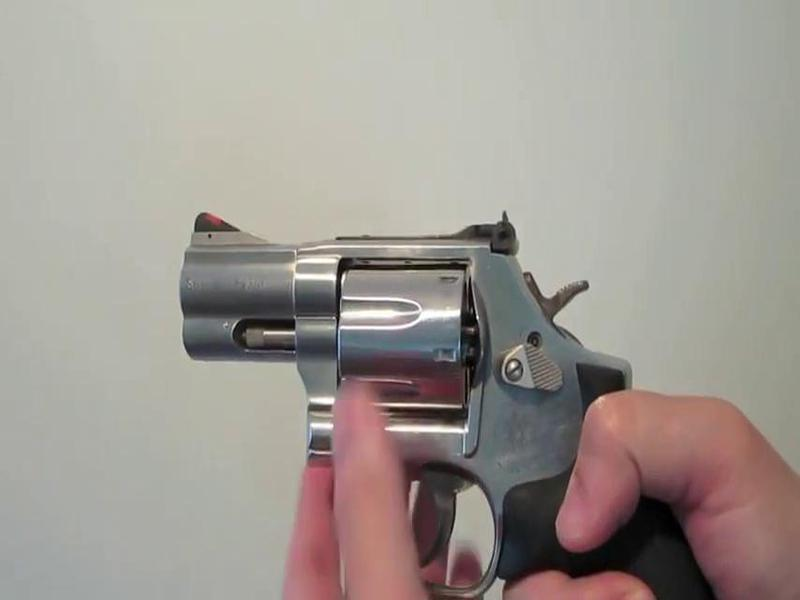Revolver: (146, 199, 691, 600)
